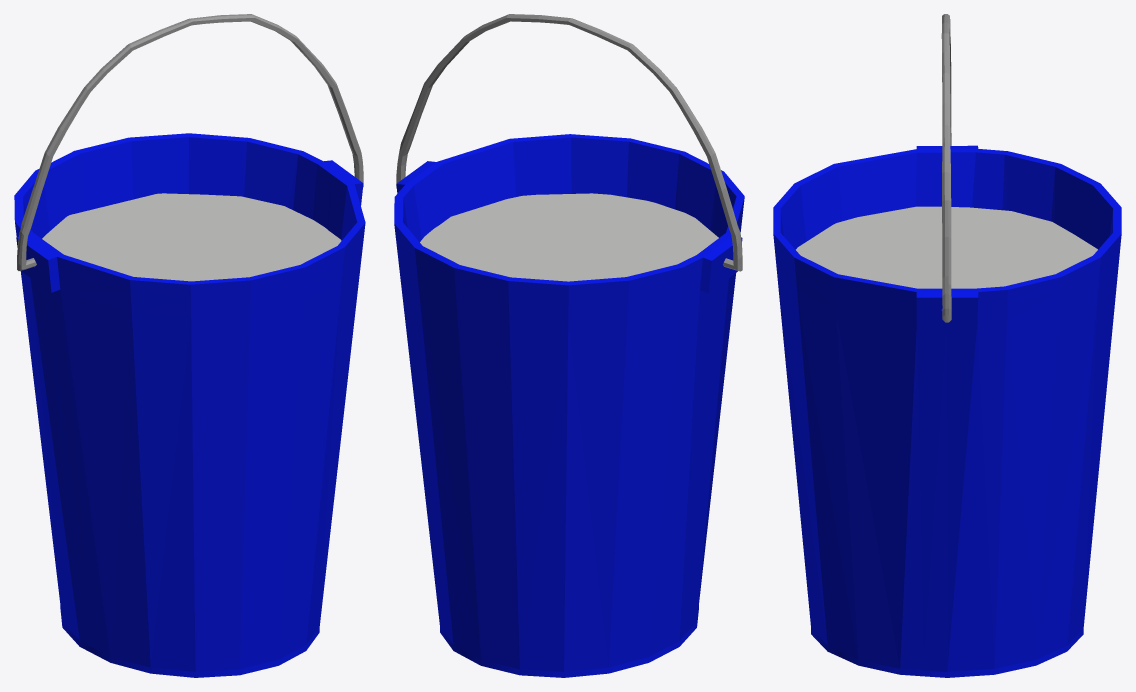
Rendered from bucket.FBX.
3 views of the same model, side by side, from view 1: azimuth 30°, elevation 25°; view 2: azimuth 150°, elevation 25°; view 3: azimuth 270°, elevation 25° (orthographic).
Parts seen in each view (by area): view 1: Bucket, Plane001, Grip; view 2: Bucket, Plane001, Grip; view 3: Bucket, Plane001, Grip.
Part boxes in pixels (box(x1,y1,x2,y2)): Bucket: box(14, 133, 365, 677); Plane001: box(42, 193, 341, 281); Grip: box(17, 14, 363, 270); Bucket: box(394, 134, 744, 677); Plane001: box(420, 193, 718, 281); Grip: box(396, 14, 742, 271); Bucket: box(773, 145, 1121, 677); Plane001: box(796, 206, 1097, 288); Grip: box(941, 14, 951, 322).
Size of the model in its own units: 46.22 by 77.01 by 41.09.
